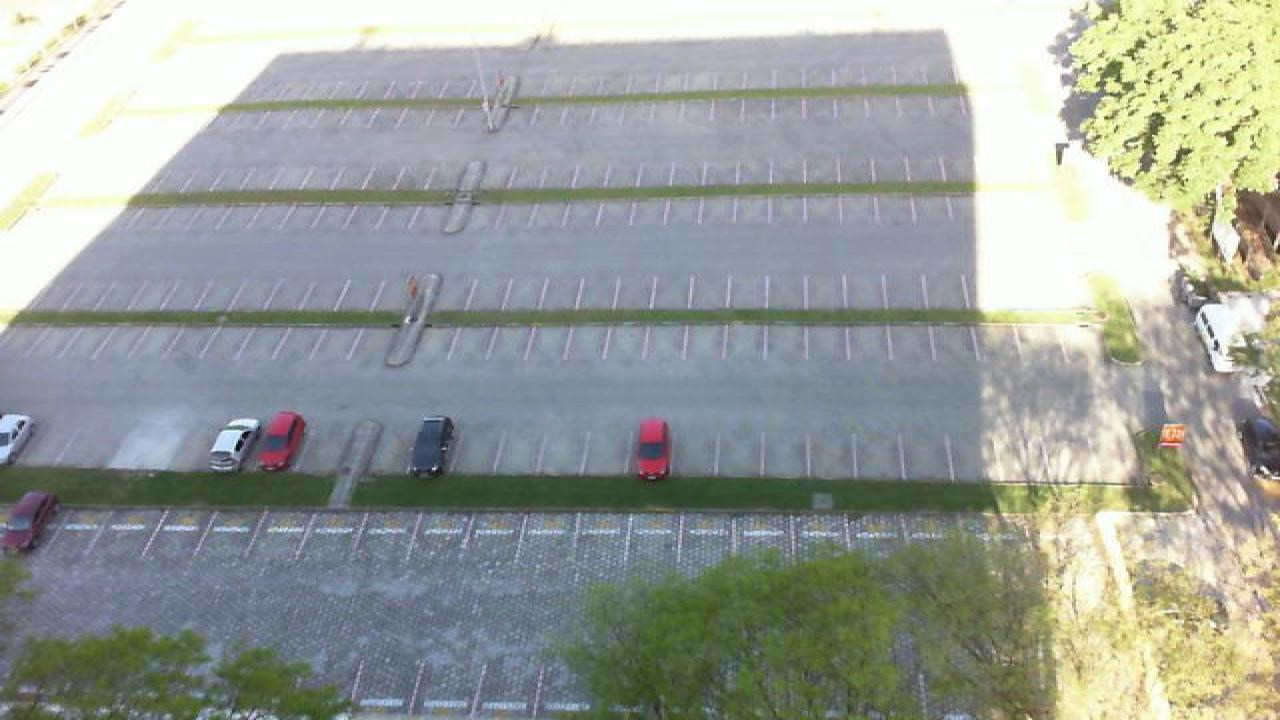Car: (1196, 297, 1260, 375), (0, 490, 58, 556), (252, 411, 306, 472), (408, 415, 456, 479), (208, 419, 260, 472), (1240, 413, 1280, 480), (634, 417, 672, 481), (0, 414, 34, 467)
